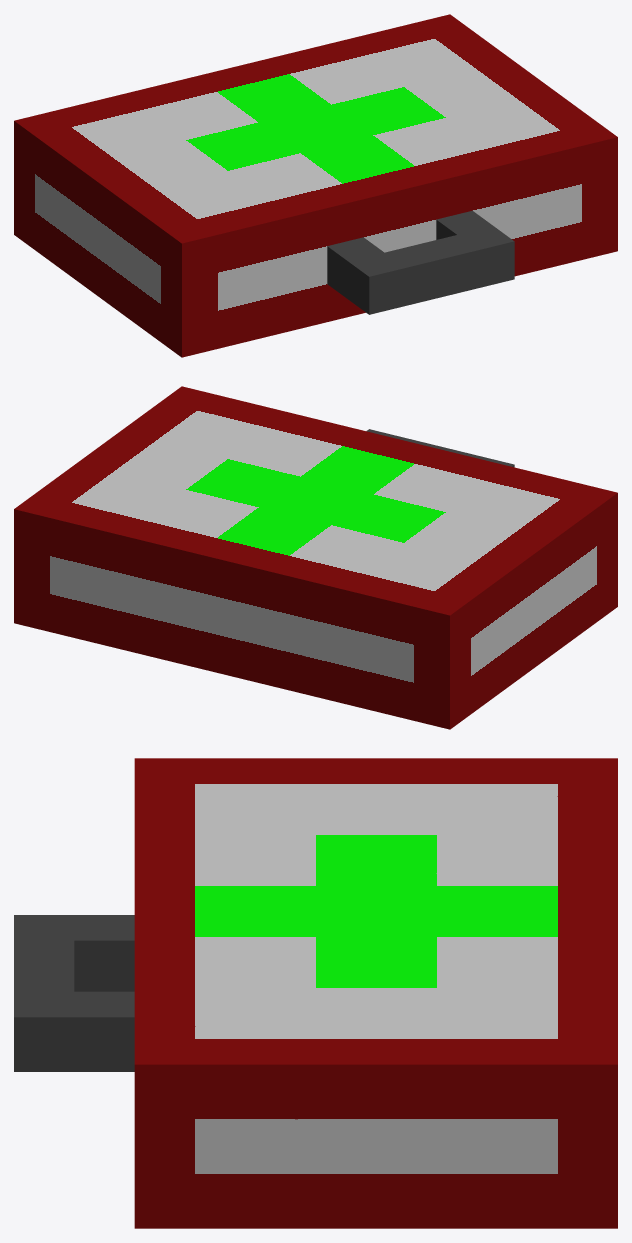
The model's file is MedKitModel.fbx.
3 renders of one model, top to bottom at view 1: azimuth 30°, elevation 25°; view 2: azimuth 150°, elevation 25°; view 3: azimuth 270°, elevation 25°, orthographic. The views are drawn at different scales.
Parts seen in each view (by area): view 1: cube; view 2: cube; view 3: cube.
Part boxes in pixels (x1,y1,x2,y2): cube: (14, 14, 617, 357); cube: (14, 386, 617, 729); cube: (14, 758, 617, 1228).
Bounding box in the file's own units: 75 × 18.75 × 62.5.
Materials: 1 (1 with a texture image).
